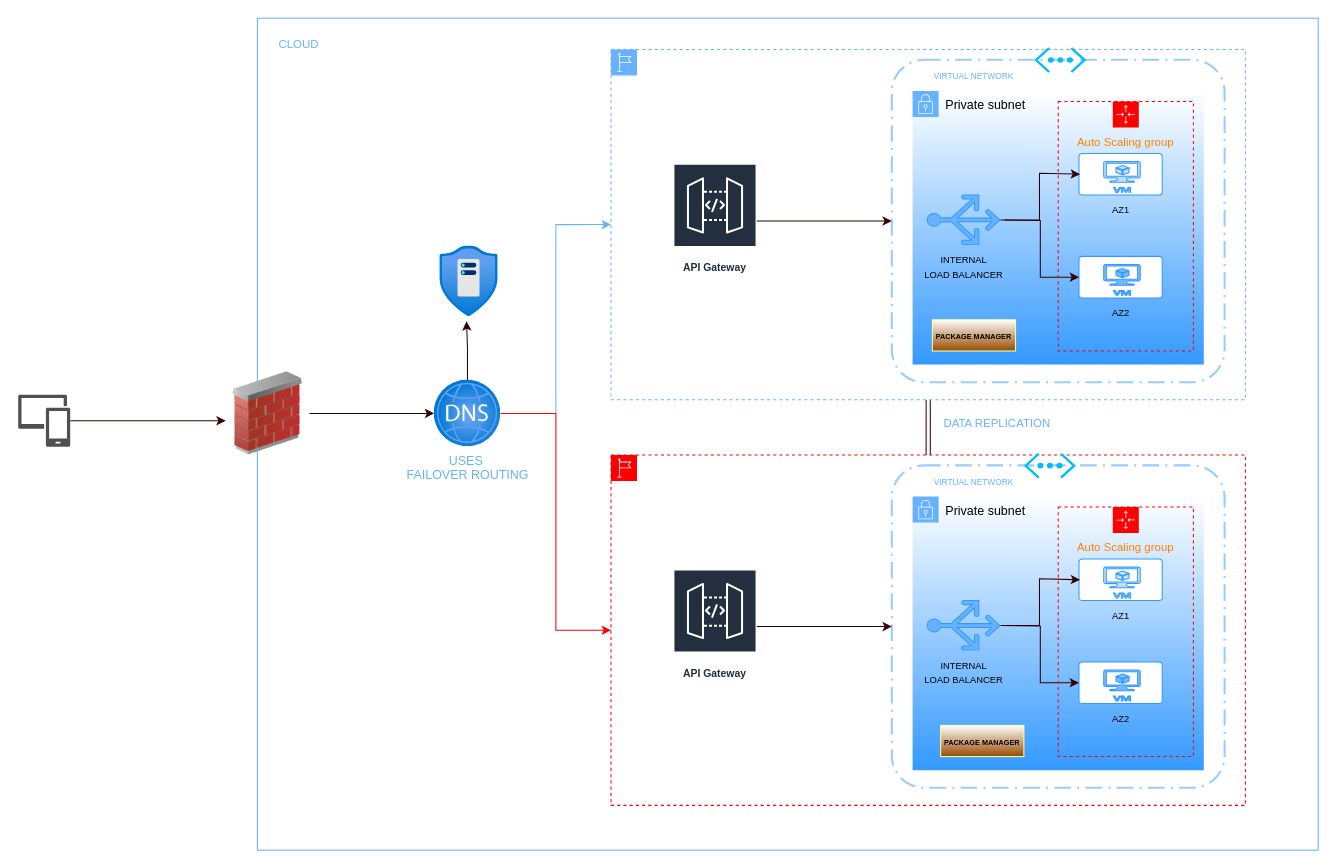
Image size: 1336x868. Some labels were removed from this diagram. The box of each missing label's shape, as (x1, y1, x2, y2) in pixels:
DDOS SECURITY: (434, 245, 503, 316)
REGION INDIA - ACTIVE: (610, 48, 1245, 400)
SINGAPORE - PASSIVE: (610, 454, 1245, 805)
